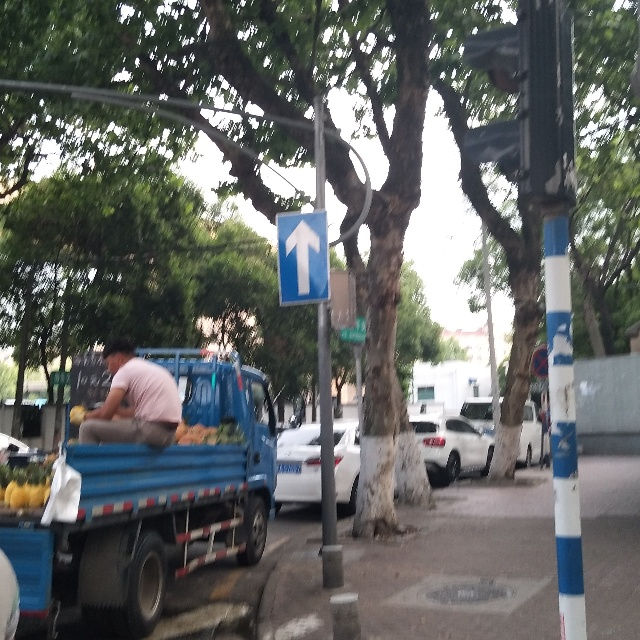straight: (276, 211, 330, 302)
